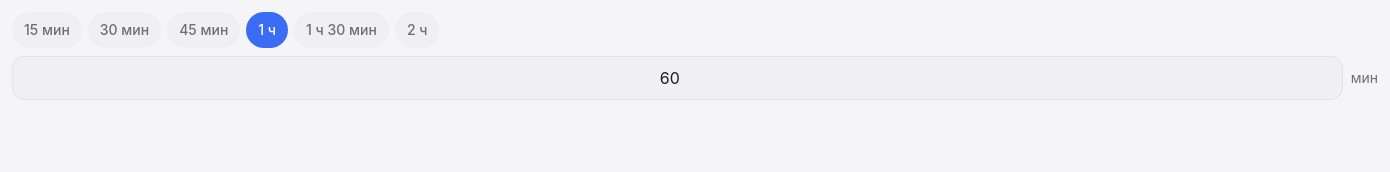
DurationField › commits 2000 as 1440 (clamped to 5..1440, snapped to 5)
Replace the text in the number field named "Длительность в минутах" with "2000" at x=677, y=78, box [12,56,1343,100]
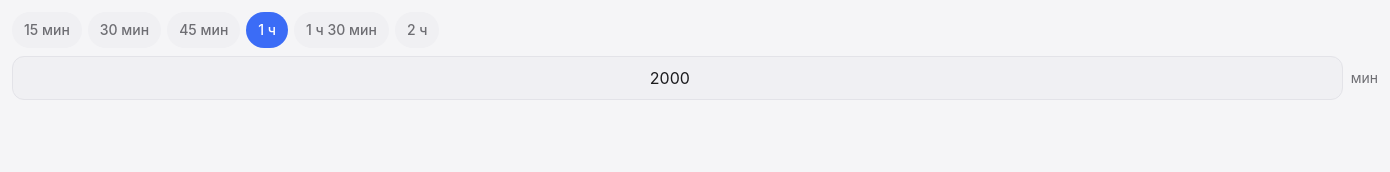
Press Enter in the number field named "Длительность в минутах", box [12,56,1343,100]
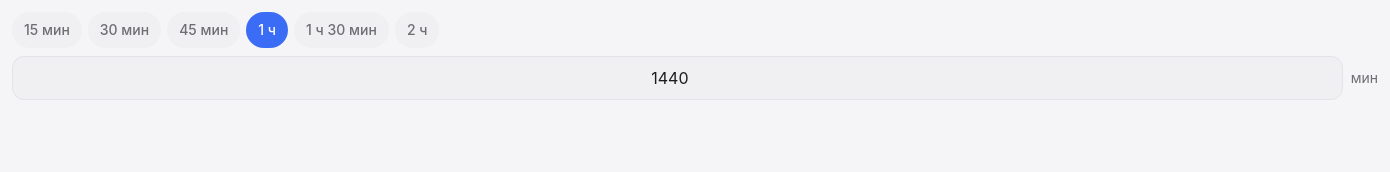
Expected: the number field named "Длительность в минутах" holds "1440", [12,56,1343,100]
